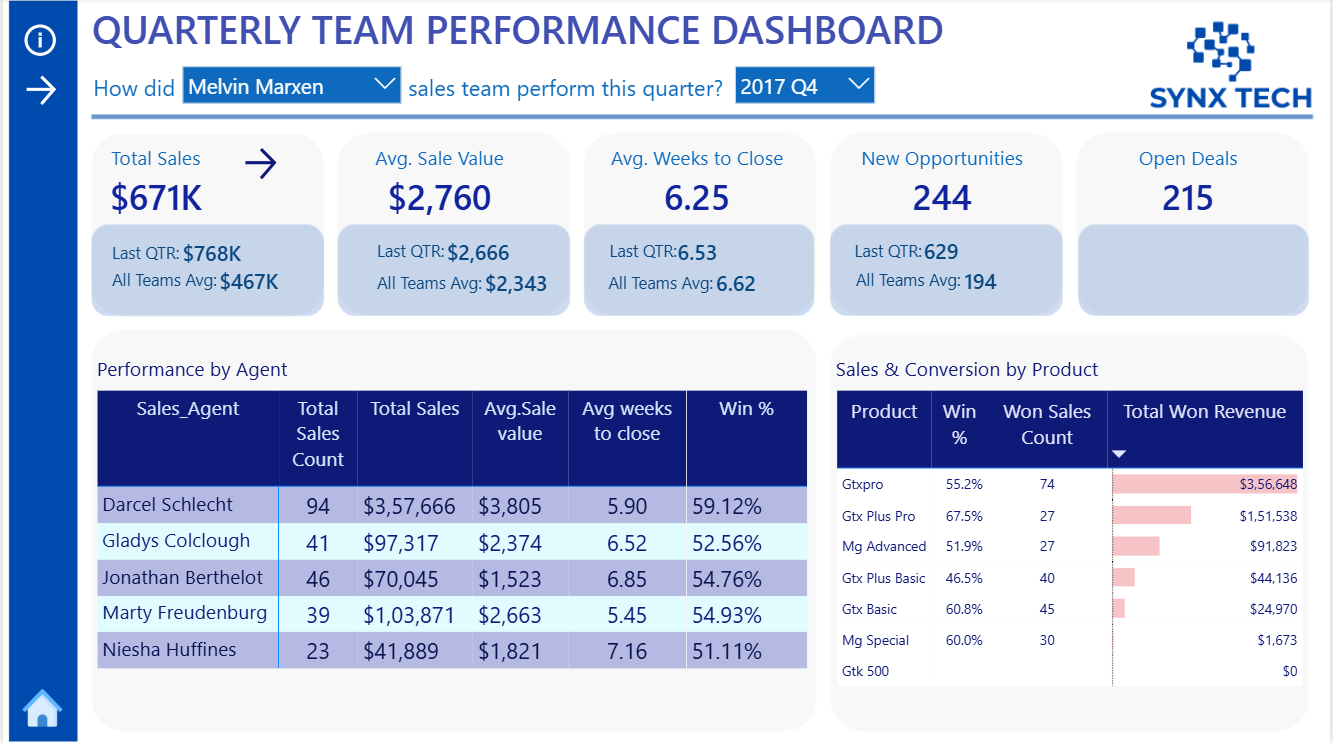

This screenshot's page, from the dashboard's own definition file:
{"tool":"powerbi","page":{"name":"Home","canvas":[1280,720],"ordinal":0},"visuals":[{"type":"textbox","box":[81.4,0,1018.6,94.3],"z":0},{"type":"textbox","box":[82.2,66.4,92.3,40.4],"z":1000},{"type":"slicer","fields":{"Values":["sales_teams.Manager"]},"box":[162.9,55.7,231.4,104.3],"z":2000},{"type":"textbox","box":[386.7,66.4,340.5,40.4],"z":3000},{"type":"slicer","fields":{"Values":["Date_Table.Year_Quarter"]},"box":[695.7,55.7,155.7,65.7],"z":4000},{"type":"card","title":"Total Sales","fields":{"Values":["sales_pipeline.Total Sales"]},"box":[34.6,141.4,225.1,77.9],"z":5000},{"type":"card","title":"Avg. Sale Value","fields":{"Values":["sales_pipeline.Avg.Sale value"]},"box":[308.8,141.4,225.1,77.9],"z":6000},{"type":"card","title":"Avg. Weeks to Close","fields":{"Values":["sales_pipeline.Avg weeks to close"]},"box":[556.9,141.4,225.1,77.9],"z":7000},{"type":"card","title":"New Opportunities","fields":{"Values":["sales_pipeline.New Opportunities"]},"box":[793.5,141.4,225.1,77.9],"z":8000},{"type":"card","title":"Open Deals","fields":{"Values":["sales_pipeline.open deals"]},"box":[1031.6,141.4,225.1,77.9],"z":9000},{"type":"pivotTable","title":"Performance by Agent","fields":{"Rows":["sales_teams.Sales_Agent"],"Values":["sales_pipeline.Total Sales Count","sales_pipeline.Total Sales","sales_pipeline.Avg.Sale value","sales_pipeline.Avg weeks to close","sales_pipeline.Win %"]},"box":[81.4,334.3,701.4,365.7],"z":10000},{"type":"card","title":"Total Sales","fields":{"Values":["sales_pipeline.Last Quarter Sales"]},"box":[167.8,228.9,67.8,36.7],"z":11000},{"type":"textbox","box":[100,228.9,97.8,36.7],"z":12000},{"type":"card","title":"Total Sales","fields":{"Values":["sales_pipeline.All Teams Average"]},"box":[201.8,256.4,71.8,38.2],"z":13000},{"type":"textbox","box":[100,256.4,126.4,40.9],"z":14000},{"type":"card","title":"Total Sales","fields":{"Values":["sales_pipeline.LQ Avg Sale Value"]},"box":[422.7,228.2,72.7,37.3],"z":15000},{"type":"textbox","box":[355.7,228.6,97.1,37.1],"z":16000},{"type":"textbox","box":[355.7,258.6,178.6,40],"z":17000},{"type":"card","title":"Total Sales","fields":{"Values":["sales_pipeline.All Teams Avg Sale value"]},"box":[457.3,258.2,76.4,37.3],"z":18000},{"type":"textbox","box":[580,227.8,88.9,37.8],"z":19000},{"type":"textbox","box":[578.9,257.8,117.8,40],"z":20000},{"type":"card","title":"Total Sales","fields":{"Values":["sales_pipeline.LQ Avg Weeks to Close"]},"box":[644.4,227.8,52.2,37.8],"z":21000},{"type":"card","title":"Total Sales","fields":{"Values":["sales_pipeline.All Teams Avg Weeks to close"]},"box":[678.9,257.8,56.7,37.8],"z":22000},{"type":"textbox","box":[817.1,228.6,88.6,38.6],"z":23000},{"type":"card","title":"Total Sales","fields":{"Values":["sales_pipeline.LQ New Opps"]},"box":[876.9,226.9,56.9,38.5],"z":24000},{"type":"tableEx","title":"Sales & Conversion by Product","fields":{"Values":["sales_pipeline.product","sales_pipeline.Win %","sales_pipeline.Won Sales Count","sales_pipeline.Total Won Revenue"]},"box":[798.6,334.3,464.3,385.7],"z":25000},{"type":"card","title":"Total Sales","fields":{"Values":["sales_pipeline.All Teams Opps Avg"]},"box":[921.8,255.5,43.6,39.1],"z":26000},{"type":"textbox","box":[818.2,256.4,125.5,40],"z":27000},{"type":"actionButton","title":"Home arrow Button","box":[228.6,140,100,40],"z":28000},{"type":"actionButton","title":"i Button","box":[15.9,20.2,99.6,40.4],"z":29000},{"type":"image","box":[12.9,665.7,50,38.6],"z":33000},{"type":"actionButton","box":[16.7,70,100,38.3],"z":34000}]}

Visuals, with their boxes in screenshot pixels (x1, y1, x2, y2), scaled from the page's 1280x720 canvas onto the 1333x743 screenshot:
textbox: (left=85, top=0, right=1146, bottom=97)
textbox: (left=86, top=69, right=182, bottom=110)
slicer - sales_teams.Manager: (left=170, top=57, right=411, bottom=165)
textbox: (left=403, top=69, right=757, bottom=110)
slicer - Date_Table.Year_Quarter: (left=725, top=57, right=887, bottom=125)
"Total Sales" card: (left=36, top=146, right=270, bottom=226)
"Avg. Sale Value" card: (left=322, top=146, right=556, bottom=226)
"Avg. Weeks to Close" card: (left=580, top=146, right=814, bottom=226)
"New Opportunities" card: (left=826, top=146, right=1061, bottom=226)
"Open Deals" card: (left=1074, top=146, right=1309, bottom=226)
"Performance by Agent" pivotTable: (left=85, top=345, right=815, bottom=722)
"Total Sales" card: (left=175, top=236, right=245, bottom=274)
textbox: (left=104, top=236, right=206, bottom=274)
"Total Sales" card: (left=210, top=265, right=285, bottom=304)
textbox: (left=104, top=265, right=236, bottom=307)
"Total Sales" card: (left=440, top=235, right=516, bottom=274)
textbox: (left=370, top=236, right=472, bottom=274)
textbox: (left=370, top=267, right=556, bottom=308)
"Total Sales" card: (left=476, top=266, right=556, bottom=305)
textbox: (left=604, top=235, right=697, bottom=274)
textbox: (left=603, top=266, right=726, bottom=307)
"Total Sales" card: (left=671, top=235, right=725, bottom=274)
"Total Sales" card: (left=707, top=266, right=766, bottom=305)
textbox: (left=851, top=236, right=943, bottom=276)
"Total Sales" card: (left=913, top=234, right=972, bottom=274)
"Sales & Conversion by Product" tableEx: (left=832, top=345, right=1315, bottom=742)
"Total Sales" card: (left=960, top=264, right=1005, bottom=304)
textbox: (left=852, top=265, right=983, bottom=306)
"Home arrow Button" actionButton: (left=238, top=144, right=342, bottom=186)
"i Button" actionButton: (left=17, top=21, right=120, bottom=63)
image: (left=13, top=687, right=66, bottom=727)
actionButton: (left=17, top=72, right=122, bottom=112)
